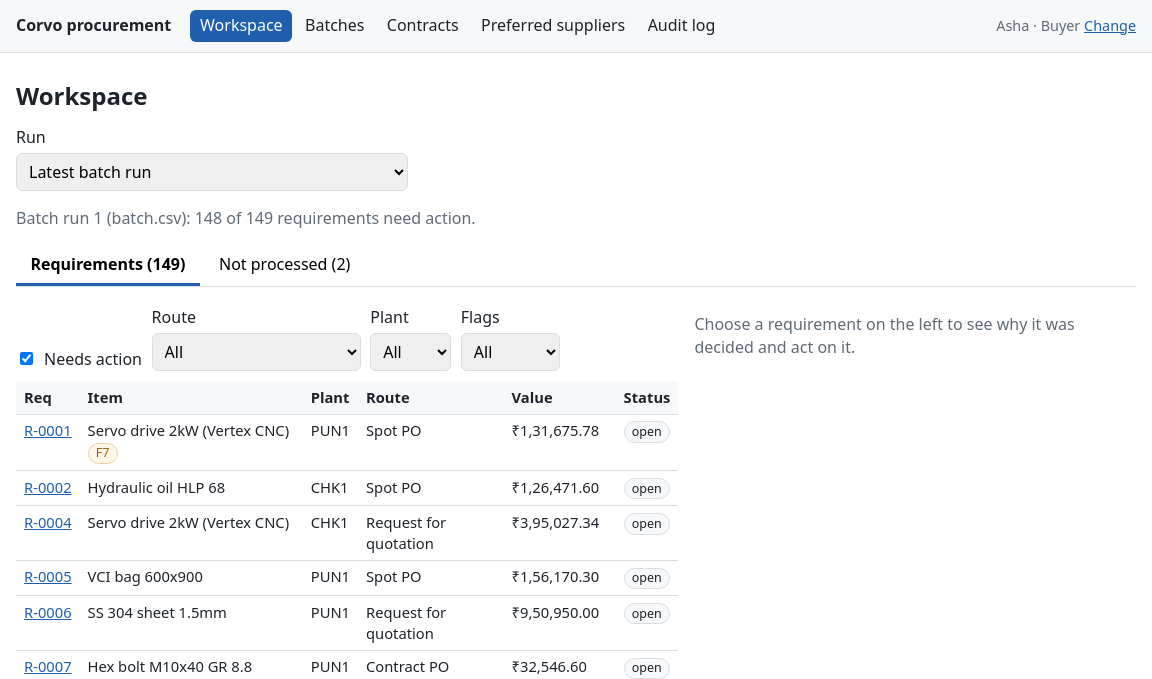
Scenario: buyer workspace (B4) › override needs a comment, and a blocked supplier cannot be chosen
Click the button "R-0001" at (48, 431), box [24,420,72,442]
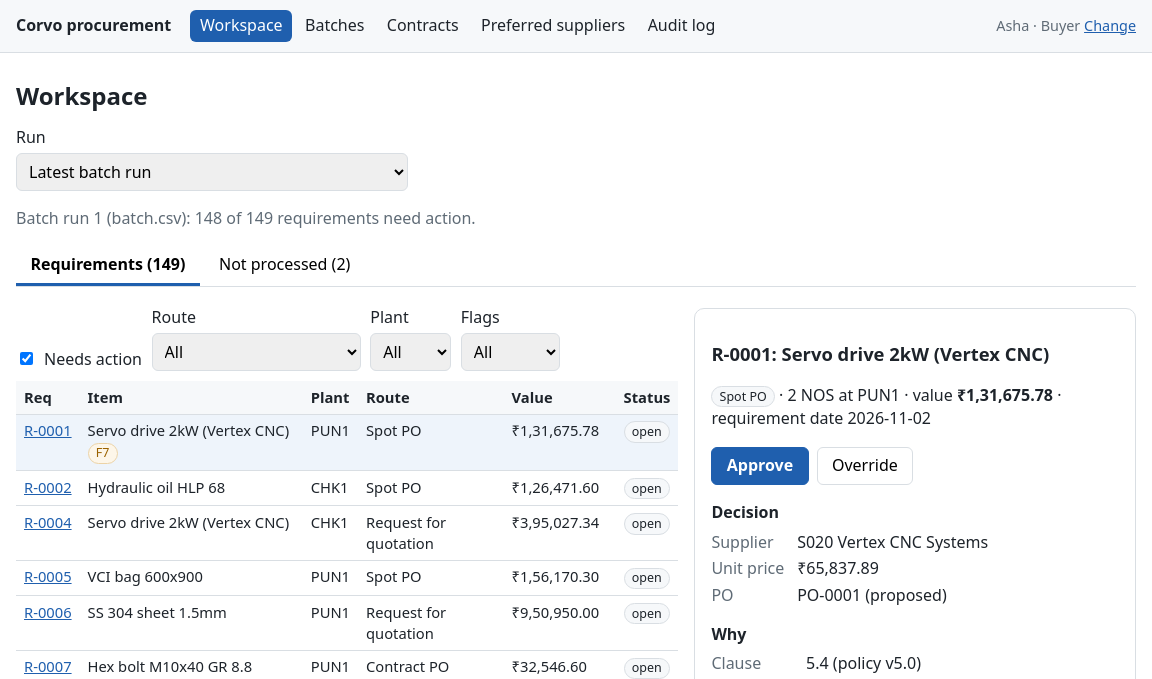
Click the button "Override" at (865, 466), box [817,447,913,485]
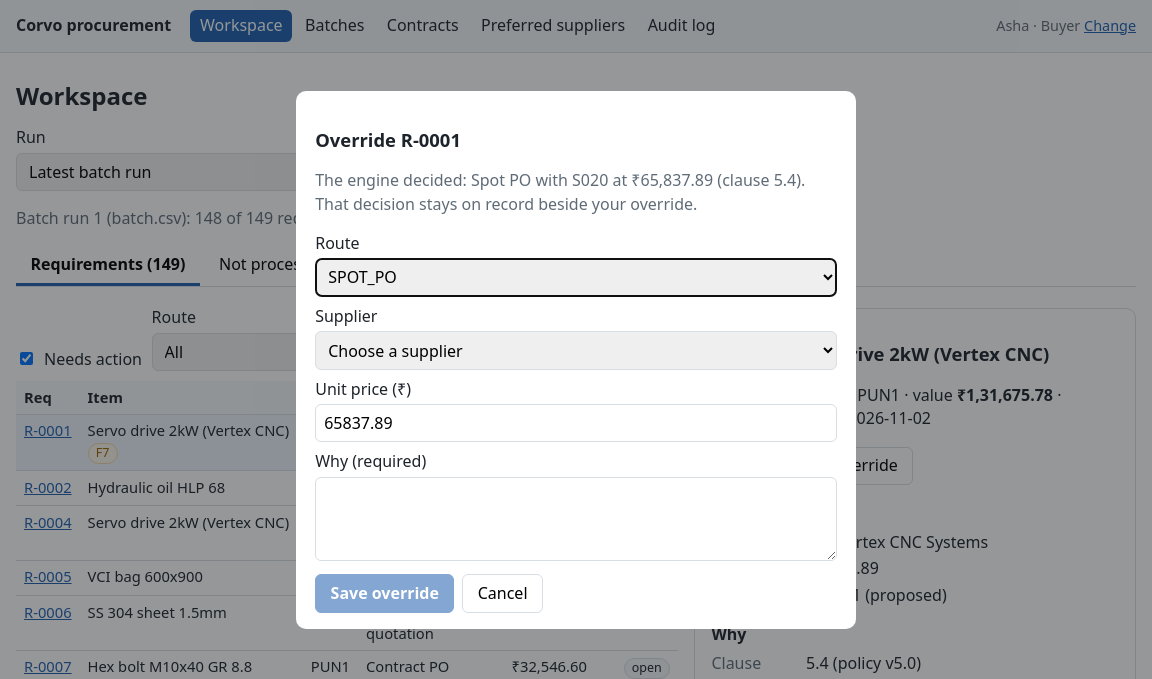
Now the text "The engine decided" is shown, box [315,169,471,191]
Now the button "Save override" is disabled, box [315,574,454,612]
Press Escape
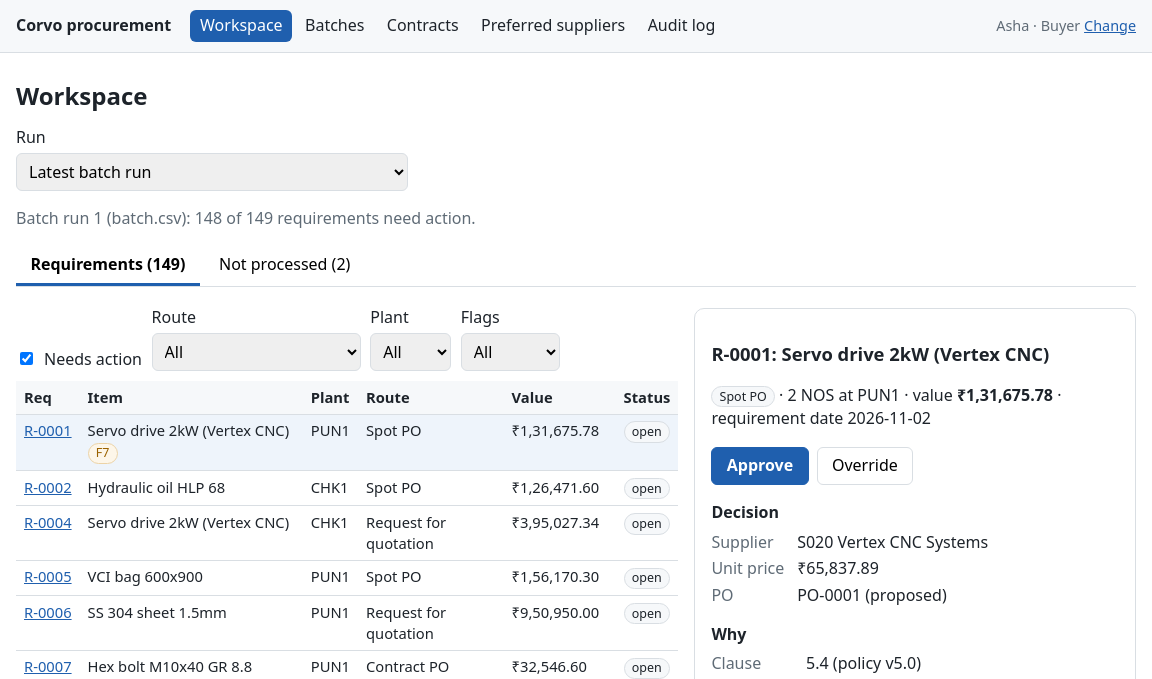
Now the dialog is gone
